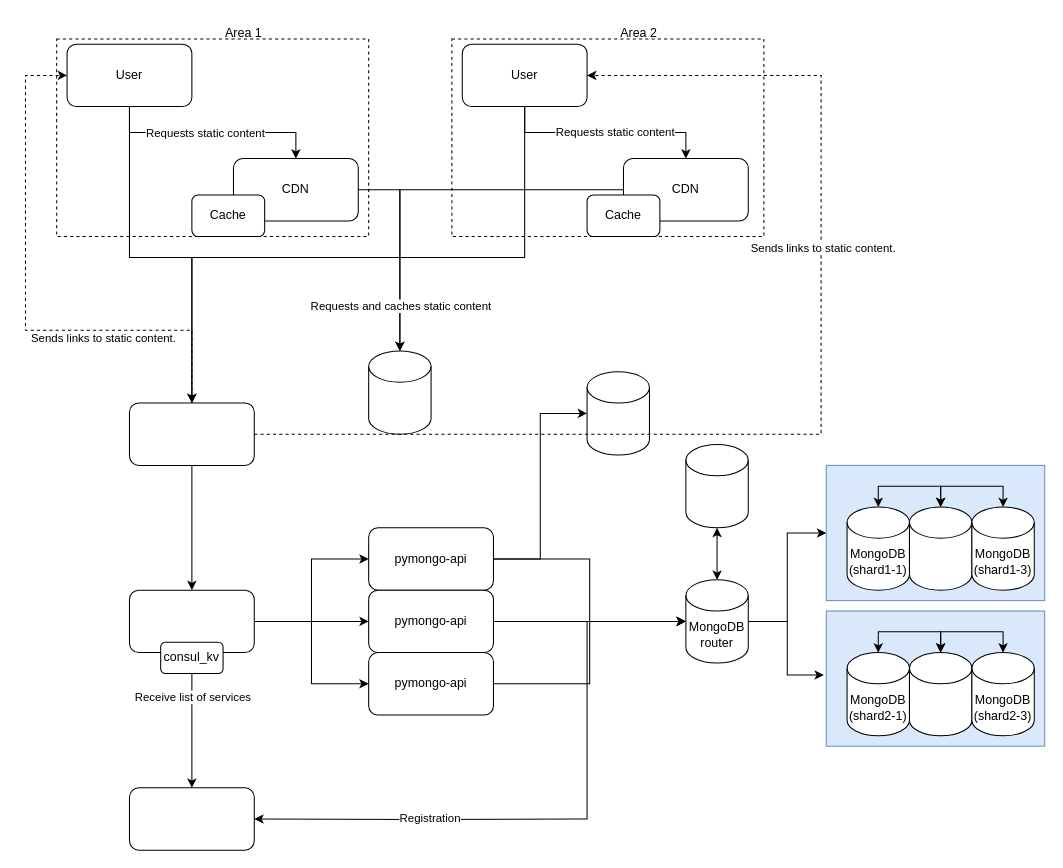
This 1063x868 diagram has some shape labels left out. The shapes that lost their labels are listed below. From the top down, each one's centre as x and y in pixels, then its label:
At point 399,392: "S3 (static content)".
At point 191,433: "Website Nginx".
At point 617,413: "Redis (redis)".
At point 716,486: "MongoDB (configSrv)".
At point 940,548: "MongoDB (shard1-2)".
At point 191,621: "APISIX Gateway".
At point 940,694: "MongoDB (shard2-2)".
At point 191,818: "Consul".
